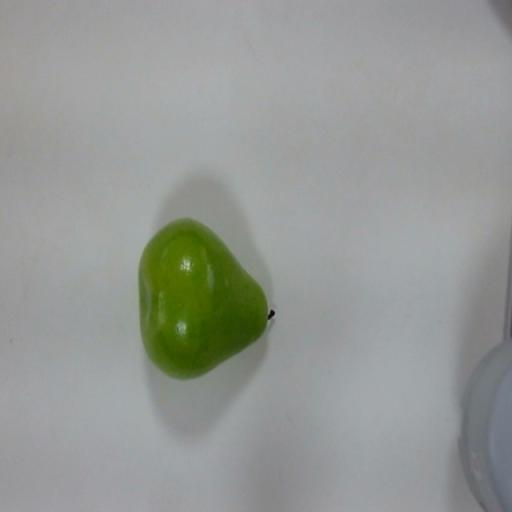Unripe: (130, 202, 298, 388)
